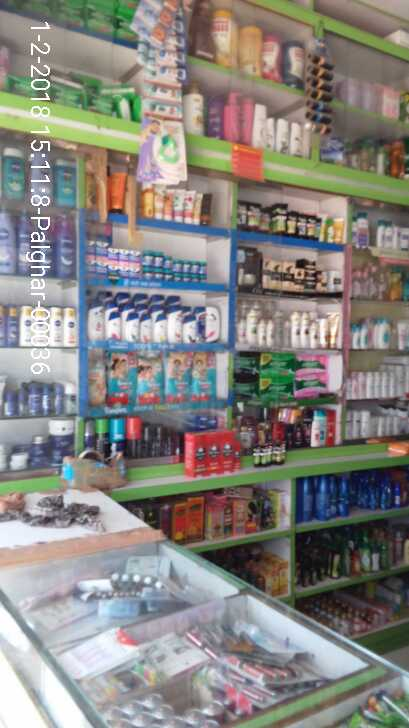vicks: (84, 238, 207, 281)
